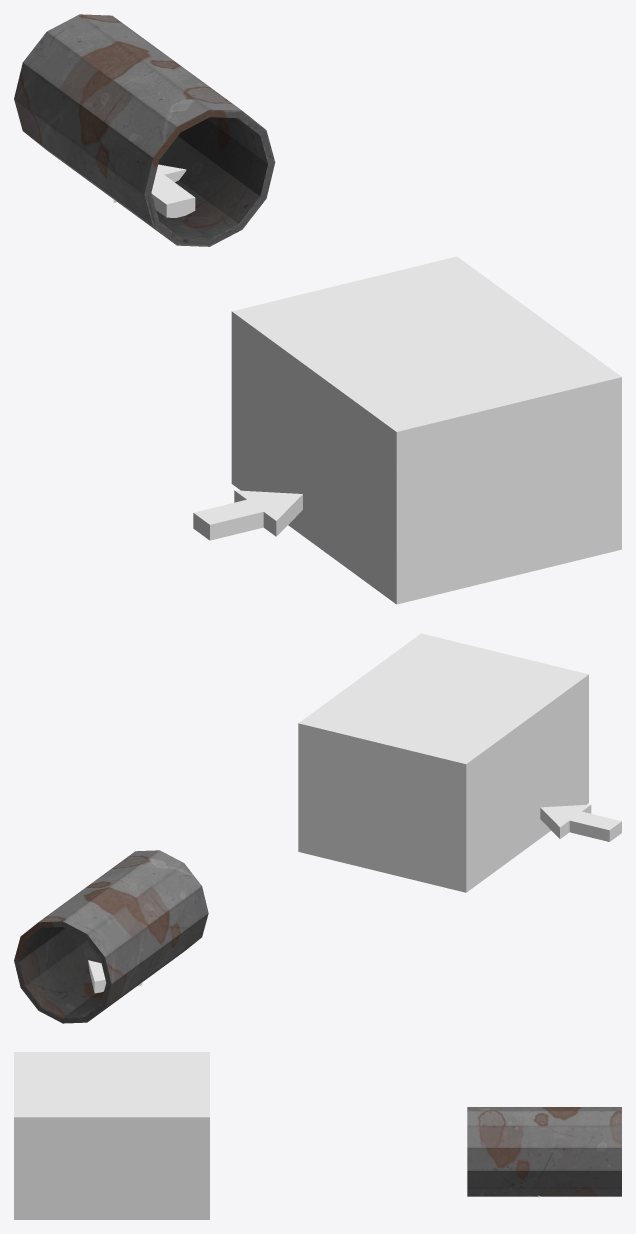
File: PipeRoller_Mirror.glb
3 views of the same model, one above another, from view 1: azimuth 30°, elevation 25°; view 2: azimuth 150°, elevation 25°; view 3: azimuth 270°, elevation 25° (orthographic). The views are drawn at different scales.
Parts seen in each view (by area): view 1: MachineTrigger, IronPipe, ghostarrow (1), ghostarrow; view 2: MachineTrigger, IronPipe, ghostarrow (1); view 3: MachineTrigger, IronPipe.
Boxes of the visible parts, <box> form: MachineTrigger: <box>231,256,621,604</box>; IronPipe: <box>14,14,275,246</box>; ghostarrow (1): <box>193,490,302,540</box>; ghostarrow: <box>113,164,195,217</box>; MachineTrigger: <box>298,633,588,892</box>; IronPipe: <box>14,850,208,1023</box>; ghostarrow (1): <box>540,804,621,841</box>; MachineTrigger: <box>14,1052,209,1219</box>; IronPipe: <box>467,1107,621,1196</box>.
Size of what is drawn, in the model's own units: 1.06 by 0.4668 by 2.51.
Materials: 3 (1 with a texture image).
